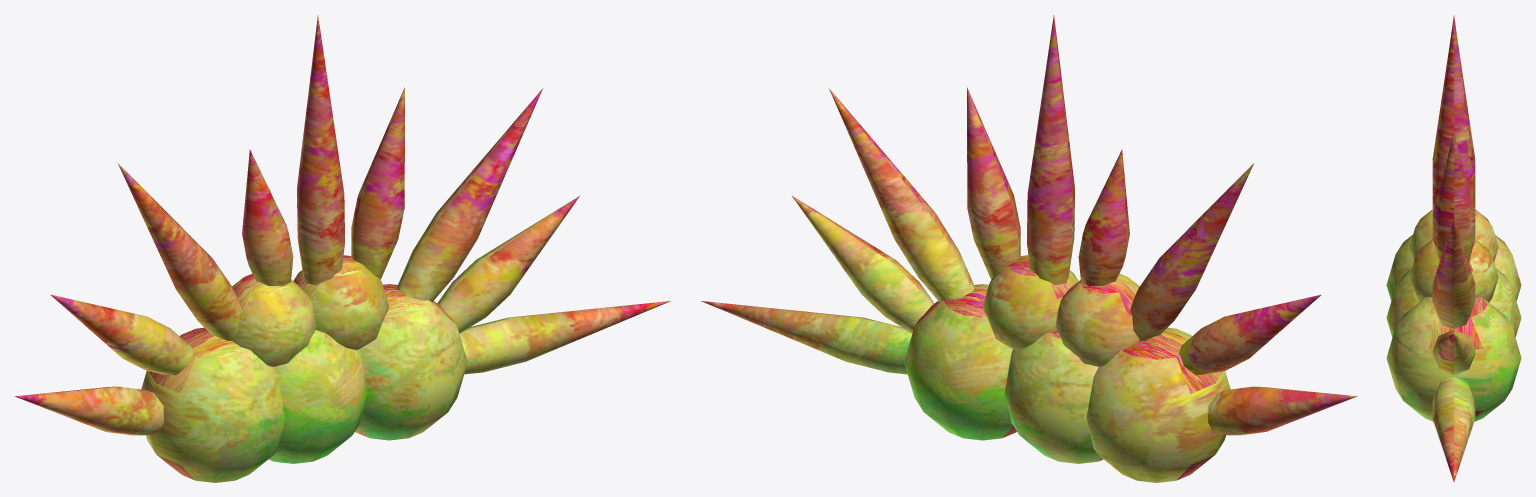
File: Trap_Coral.FBX
The picture shows the model from 3 angles, left to right: view 1: azimuth 30°, elevation 25°; view 2: azimuth 150°, elevation 25°; view 3: azimuth 270°, elevation 25°; orthographic projection. The views are drawn at different scales.
Visible parts, largest first — view 1: Sphere002; view 2: Sphere002; view 3: Sphere002.
Part boxes in pixels (left/top/right/bottom): Sphere002: left=14, top=15, right=670, bottom=482; Sphere002: left=701, top=15, right=1357, bottom=482; Sphere002: left=1386, top=15, right=1521, bottom=481.
Size of the model in its own units: 227 by 144 by 46.88.
